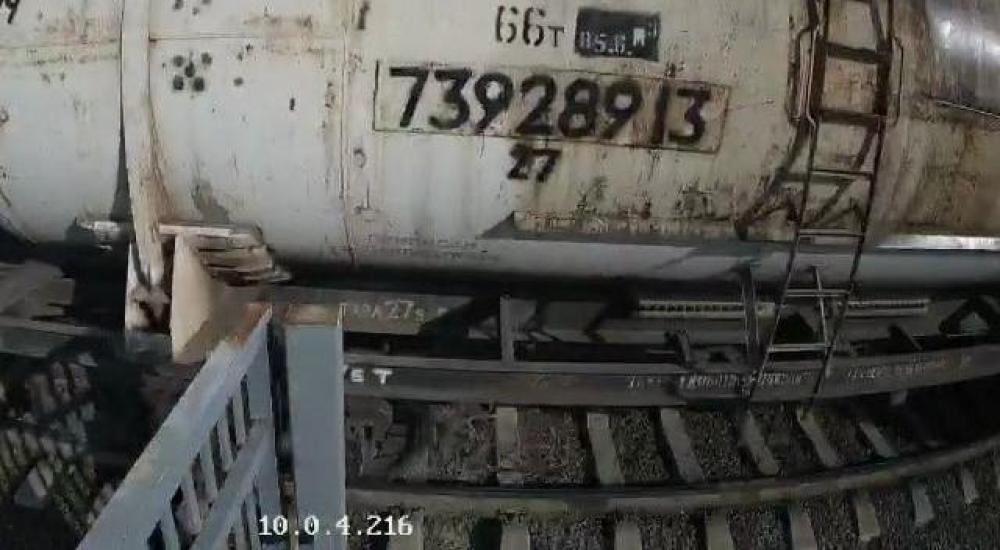Wagon-number: (383, 62, 713, 150)
